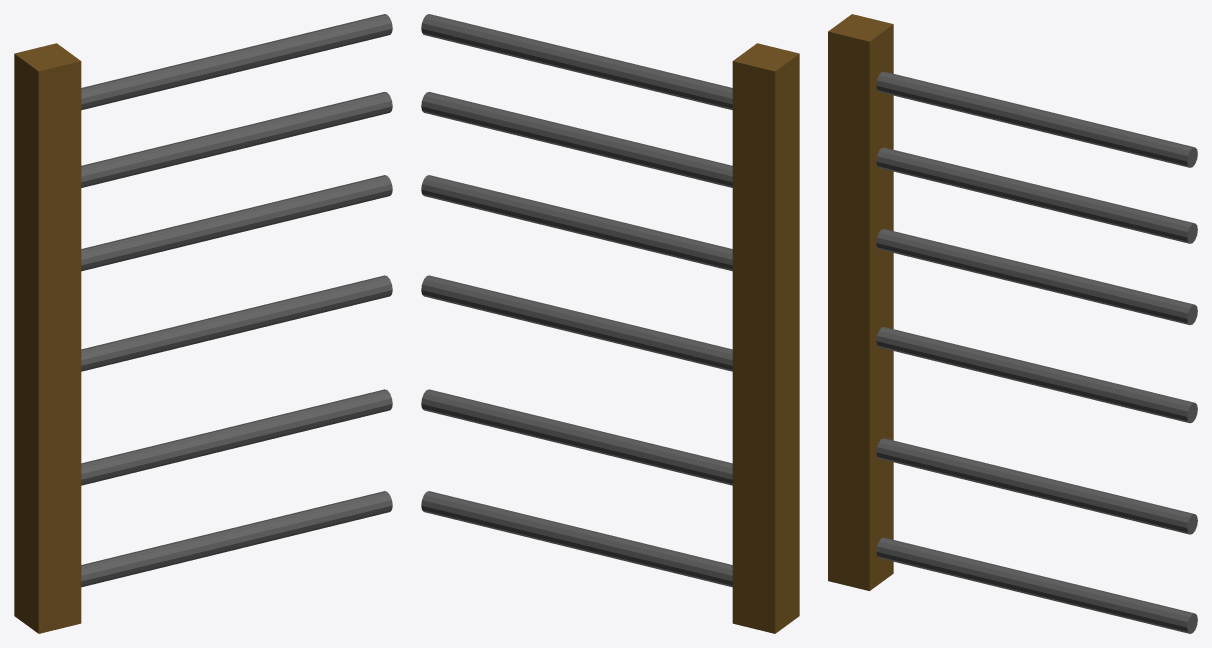
Rendered from BarDoor.glb.
3 views of the same model, side by side, from view 1: azimuth 30°, elevation 25°; view 2: azimuth 150°, elevation 25°; view 3: azimuth 330°, elevation 25° (orthographic). The views are drawn at different scales.
Parts seen in each view (by area): view 1: BarDoor; view 2: BarDoor; view 3: BarDoor.
Boxes of the visible parts, <box> form: BarDoor: <box>14,14,392,633</box>; BarDoor: <box>421,14,799,633</box>; BarDoor: <box>828,14,1197,633</box>.
Size of the model in its own units: 1.6 by 2.38 by 0.1886.
